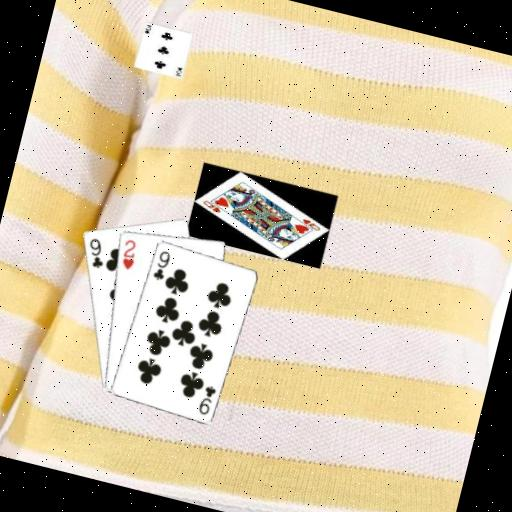2H: (115, 235, 141, 272)
9C: (81, 233, 111, 271), (194, 381, 219, 418), (149, 246, 172, 283)
